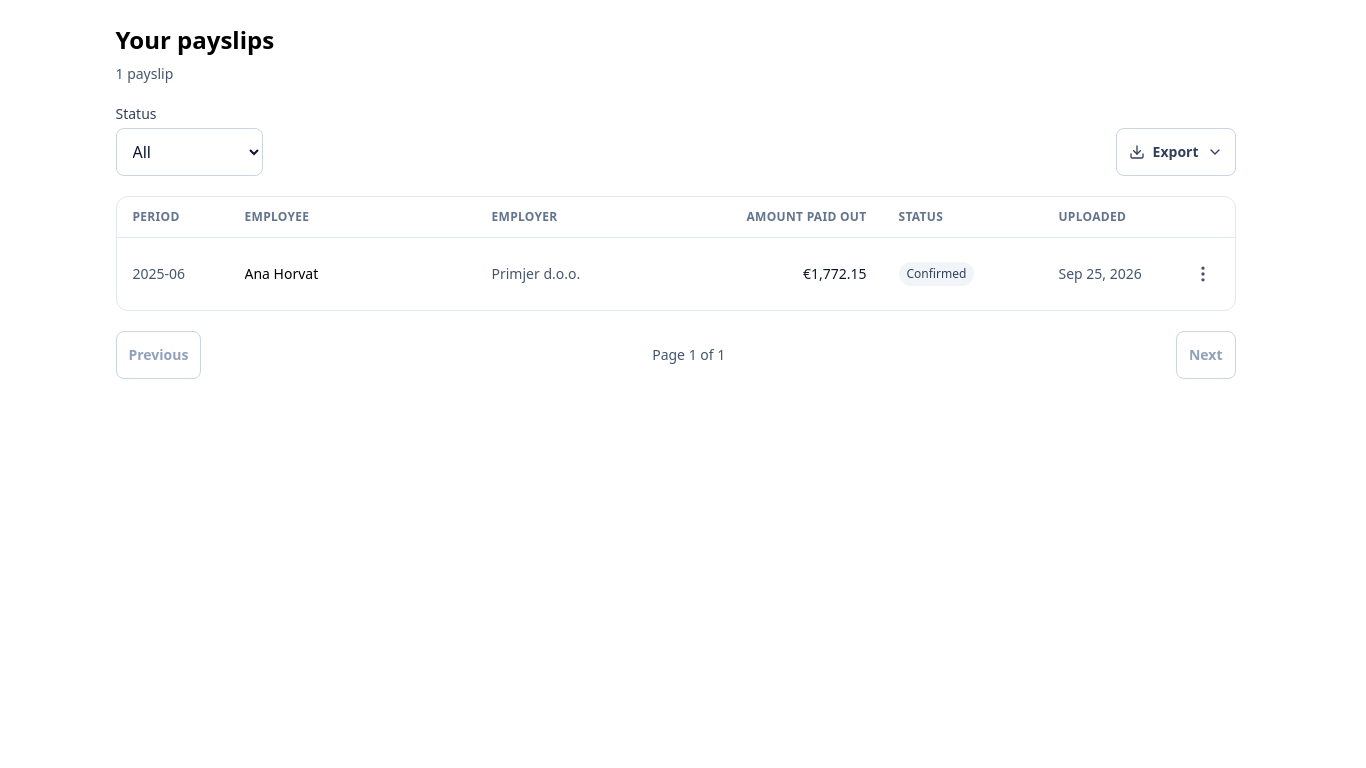
HistoryPage › keeps the payslip when the delete dialog is dismissed
Click the button named "Actions for Ana Horvat": (1202, 274) [1178,250,1226,298]
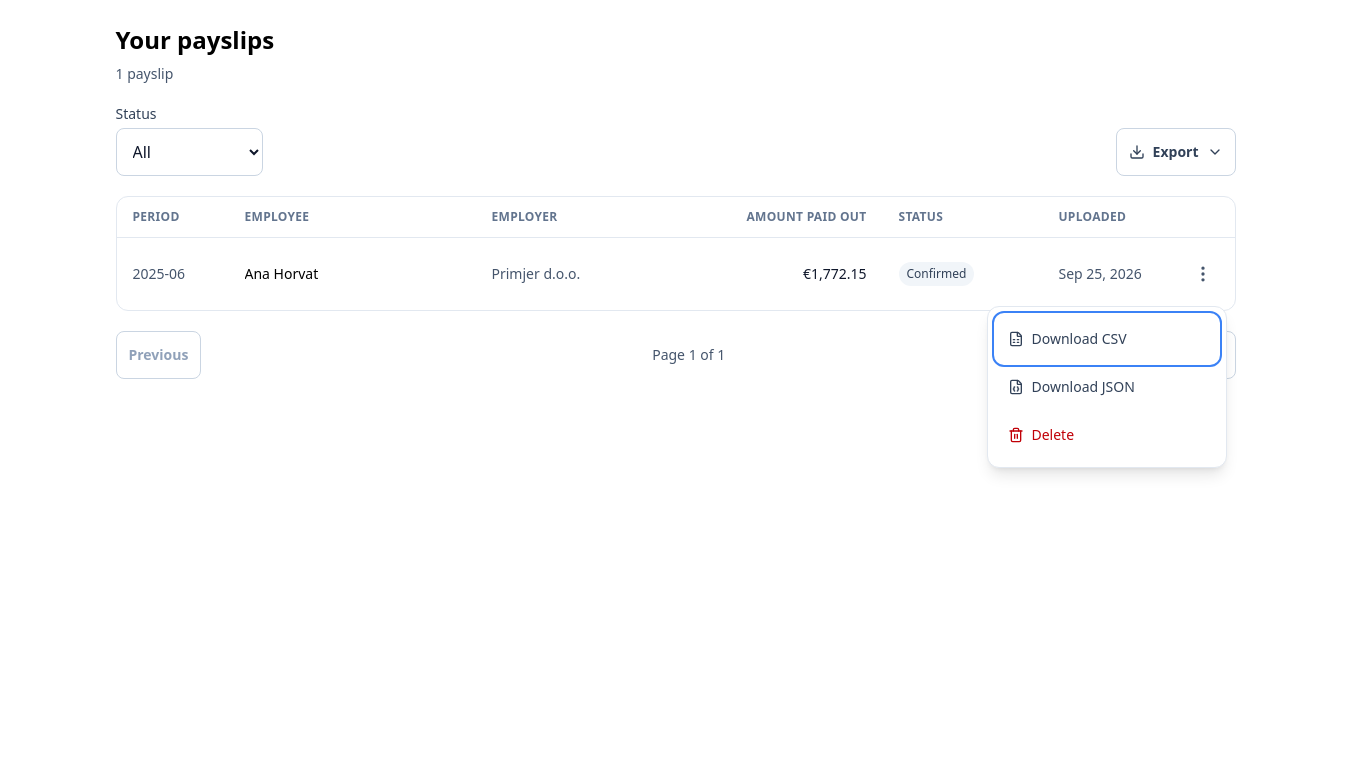
Click the button "Delete": (1106, 435) [996,411,1218,459]
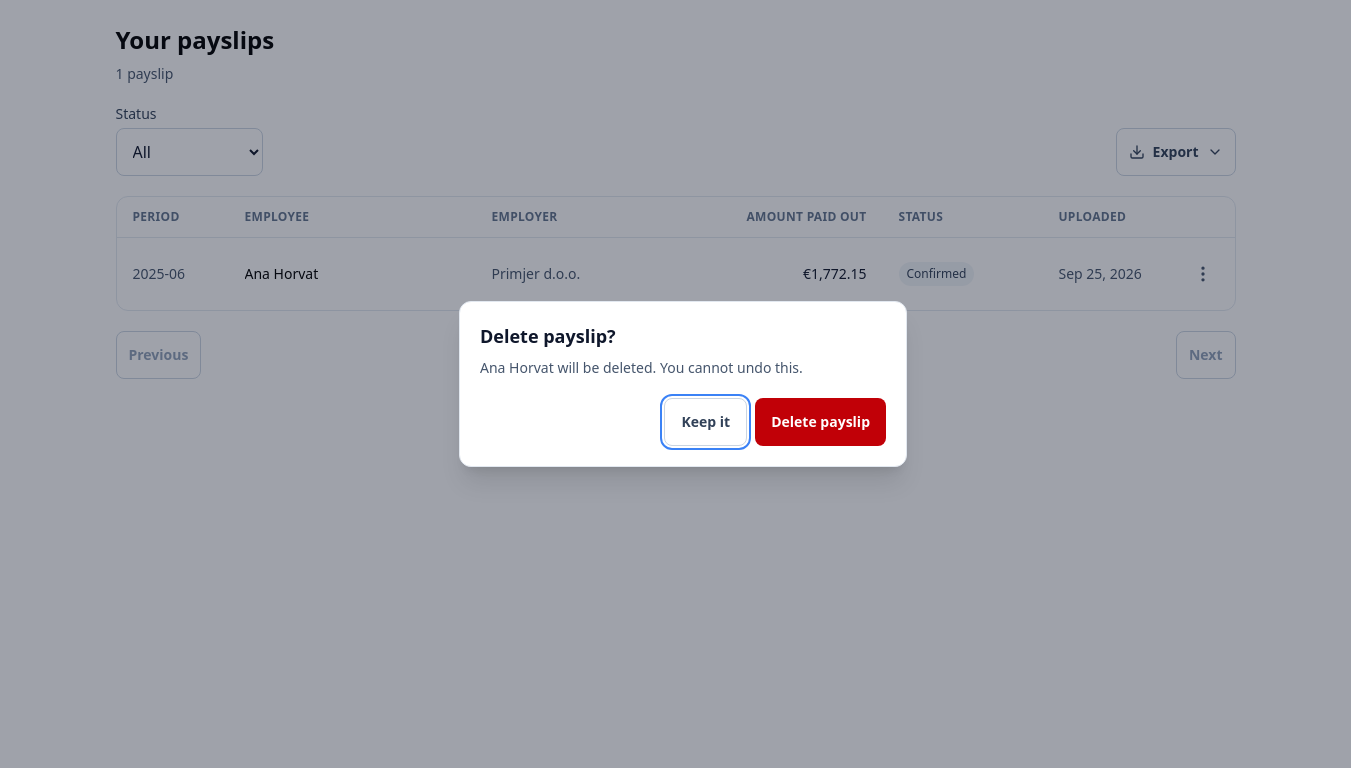
Click the button "Keep it": (706, 422) [664,398,747,446]
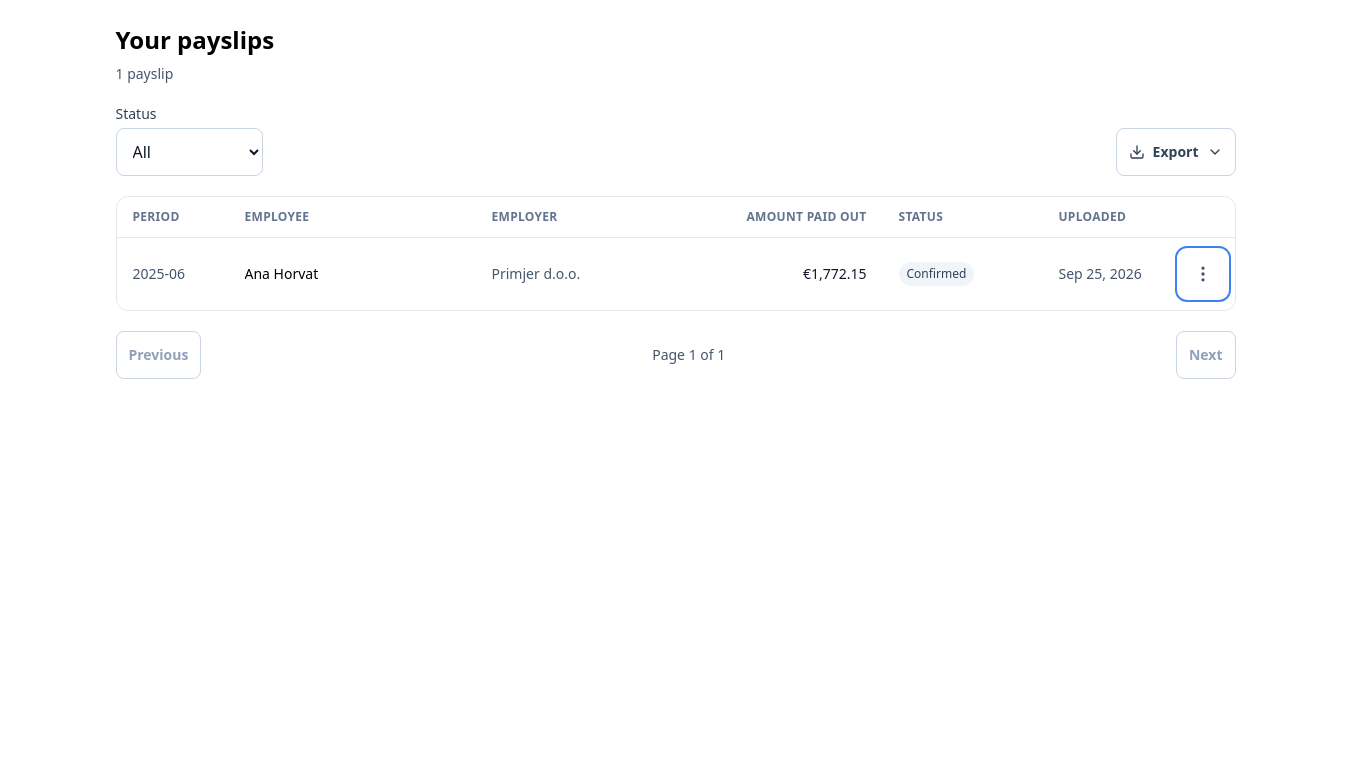
expect the dialog is gone: met
